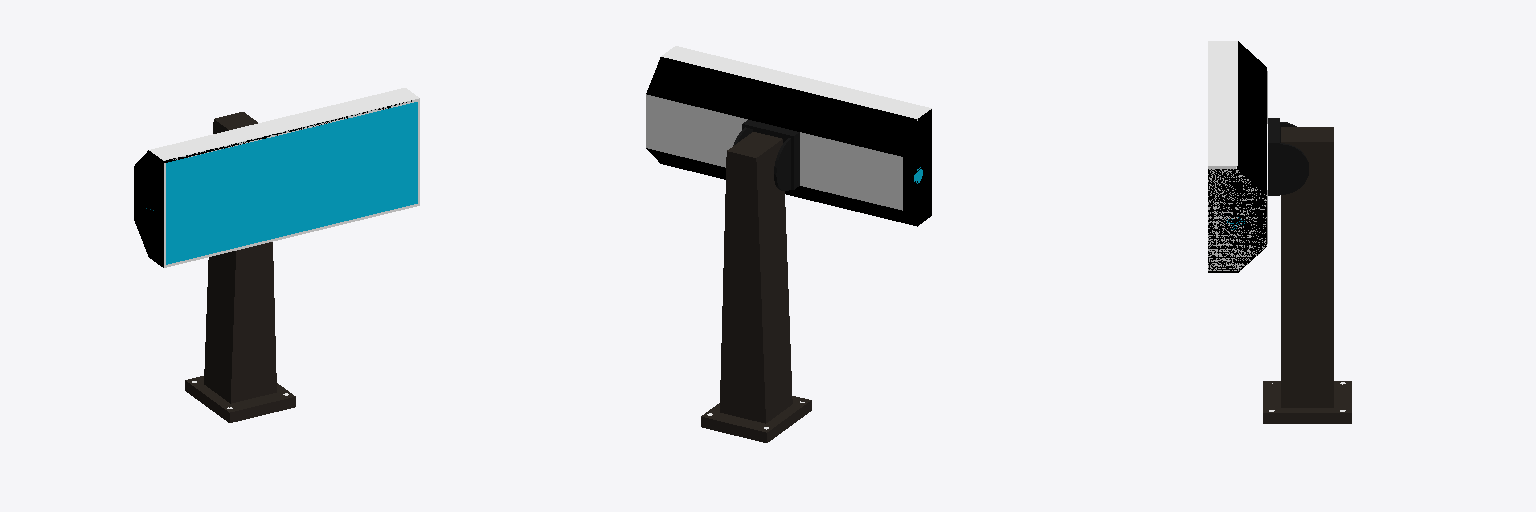
The model's file is Spotlight.obj.
3 views of the same model, side by side, from view 1: azimuth 30°, elevation 25°; view 2: azimuth 150°, elevation 25°; view 3: azimuth 270°, elevation 25° (orthographic).
Parts seen in each view (by area): view 1: Mesh7 Group8 Group1 Model, Mesh6 Group7 Group1 Model, Mesh1 Group2 Group1 Model; view 2: Mesh6 Group7 Group1 Model, Mesh1 Group2 Group1 Model, Mesh7 Group8 Group1 Model, Mesh2 Group3 Group1 Model, Mesh3 Group4 Group1 Model; view 3: Mesh6 Group7 Group1 Model, Mesh1 Group2 Group1 Model, Mesh7 Group8 Group1 Model, Mesh3 Group4 Group1 Model, Mesh2 Group3 Group1 Model.
Boxes of the visible parts, x1,y1,x2,y2 form: Mesh7 Group8 Group1 Model: [134, 88, 419, 267]; Mesh6 Group7 Group1 Model: [185, 112, 295, 422]; Mesh1 Group2 Group1 Model: [134, 100, 411, 267]; Mesh6 Group7 Group1 Model: [701, 132, 811, 442]; Mesh1 Group2 Group1 Model: [646, 57, 931, 226]; Mesh7 Group8 Group1 Model: [646, 46, 931, 222]; Mesh2 Group3 Group1 Model: [742, 120, 799, 189]; Mesh3 Group4 Group1 Model: [733, 127, 790, 190]; Mesh6 Group7 Group1 Model: [1263, 127, 1351, 423]; Mesh1 Group2 Group1 Model: [1208, 41, 1266, 272]; Mesh7 Group8 Group1 Model: [1208, 41, 1267, 270]; Mesh3 Group4 Group1 Model: [1280, 122, 1308, 194]; Mesh2 Group3 Group1 Model: [1268, 118, 1279, 195].
Size of the model in its own units: 0.5 by 0.5686 by 0.2423.